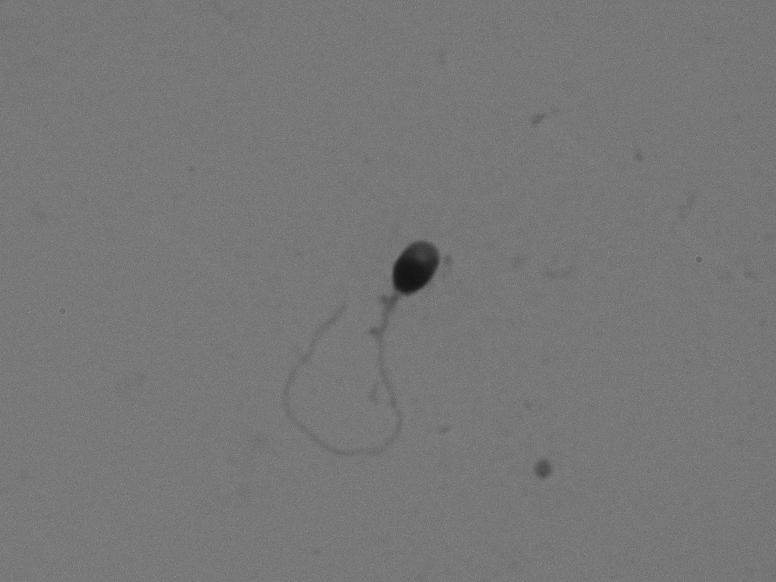Abnormal: (237, 214, 464, 479)
